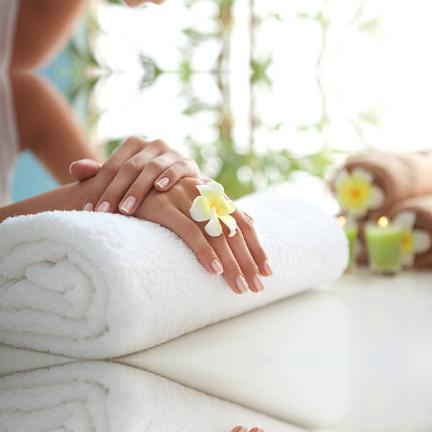Nail: (120, 196, 136, 213), (235, 275, 248, 293), (253, 274, 264, 291), (211, 260, 224, 274), (96, 201, 111, 212), (156, 177, 170, 188), (264, 259, 273, 276), (83, 203, 94, 211), (237, 427, 248, 432), (255, 429, 264, 432)
